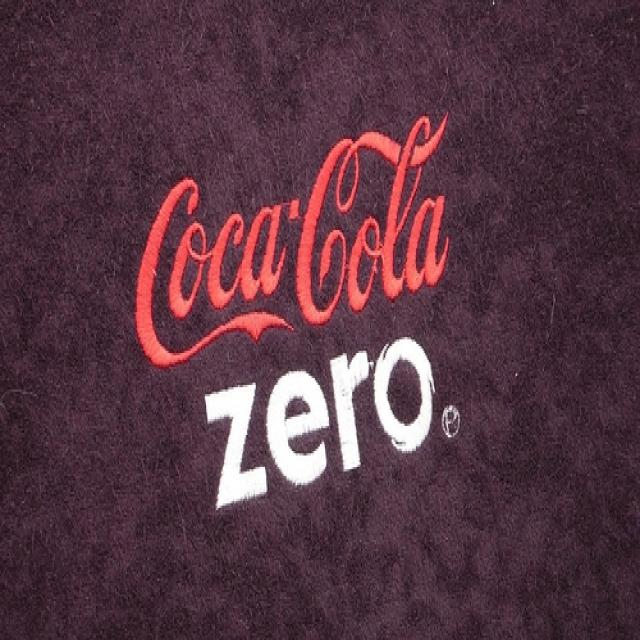cocacola: (127, 92, 469, 379)
